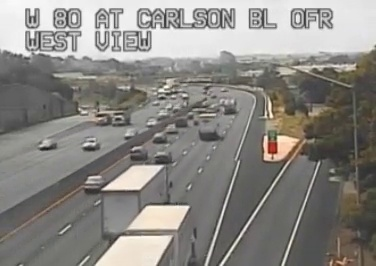car: (84, 175, 105, 191), (154, 152, 172, 165), (130, 147, 147, 160), (152, 133, 166, 143)
small-truck: (199, 113, 217, 139)
truck: (94, 204, 193, 266), (100, 164, 169, 239)
